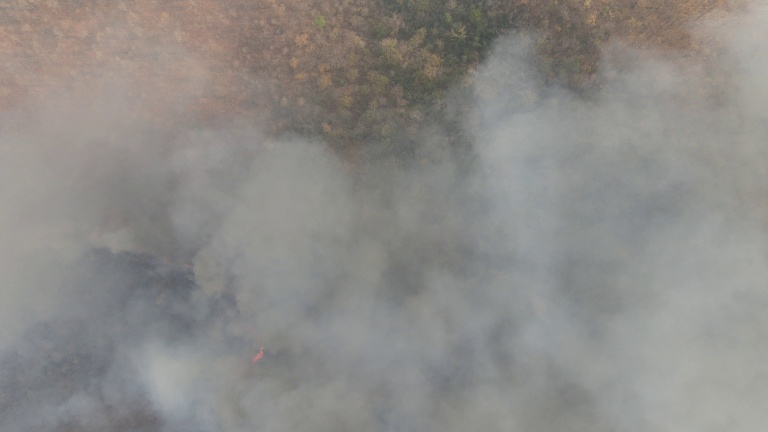fire: (134, 239, 266, 304), (236, 308, 270, 382)
smoke: (24, 60, 768, 432)
